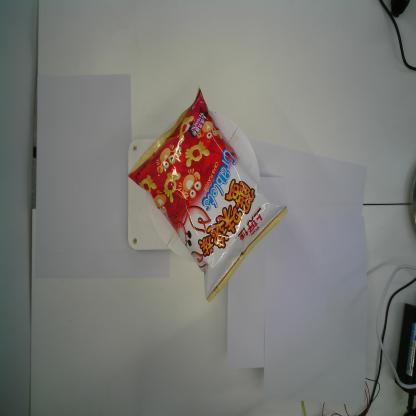Puffed Food: (126, 84, 290, 303)
